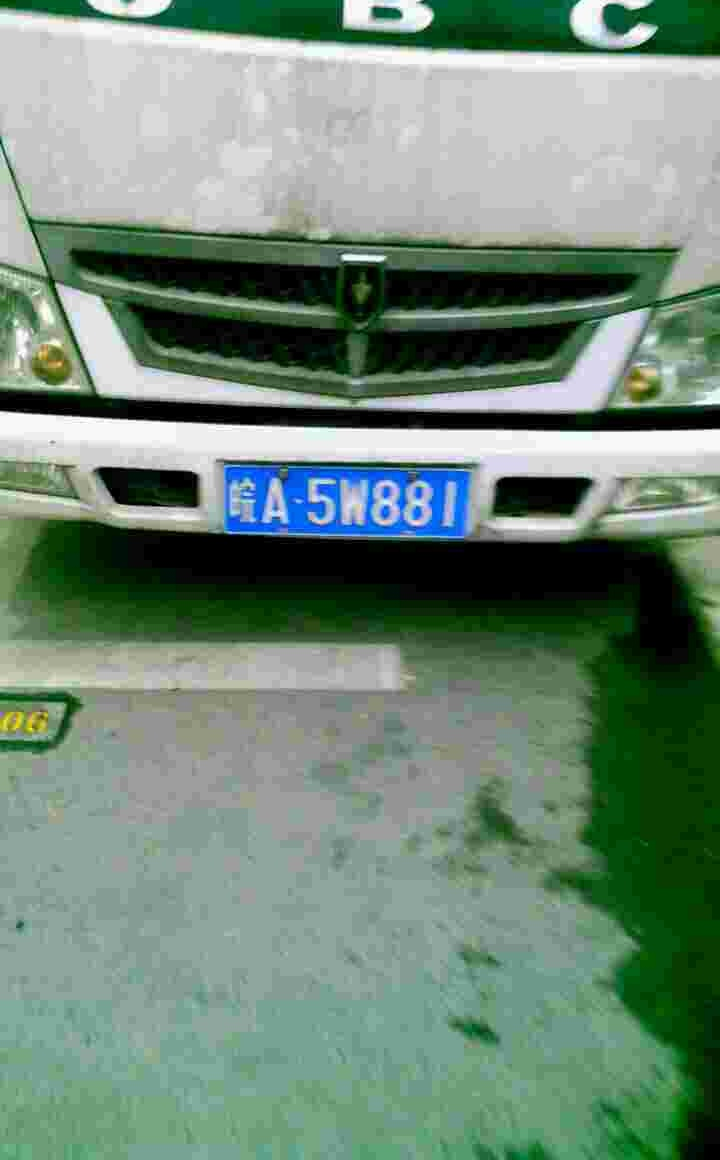license_plate: (231, 470, 467, 540)
